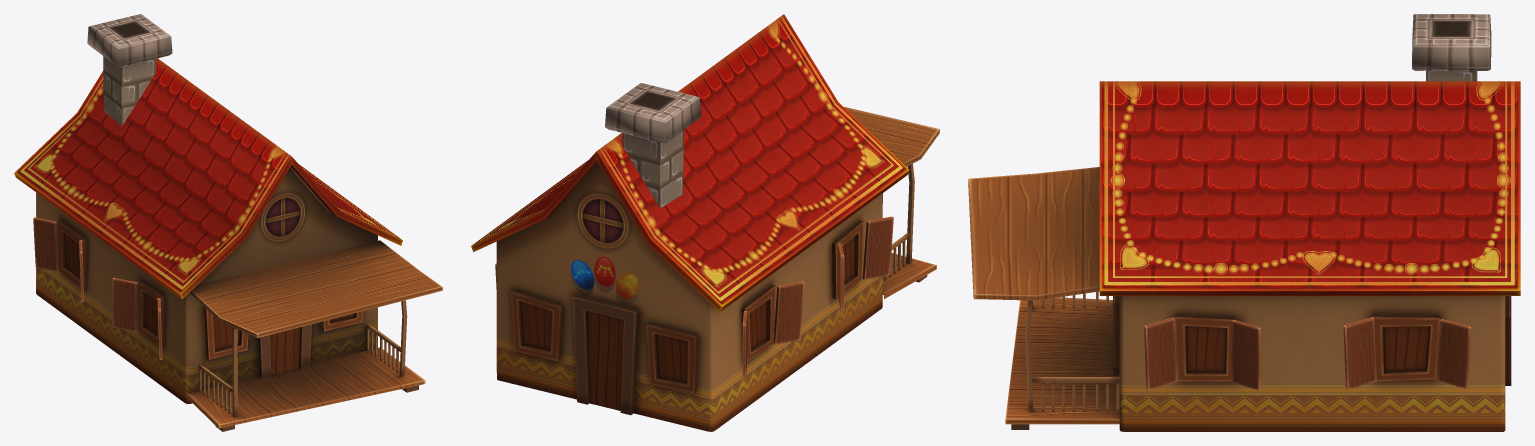
The model's file is House_03.FBX.
The picture shows the model from 3 angles, left to right: view 1: azimuth 30°, elevation 25°; view 2: azimuth 150°, elevation 25°; view 3: azimuth 270°, elevation 25°; orthographic projection. The views are drawn at different scales.
Parts seen in each view (by area): view 1: House_03; view 2: House_03; view 3: House_03.
Boxes of the visible parts, bbox=[...] form: House_03: bbox=[14, 14, 442, 431]; House_03: bbox=[471, 14, 939, 431]; House_03: bbox=[968, 14, 1520, 431].
Size of the model in its own units: 1.46 by 1.58 by 2.4.
